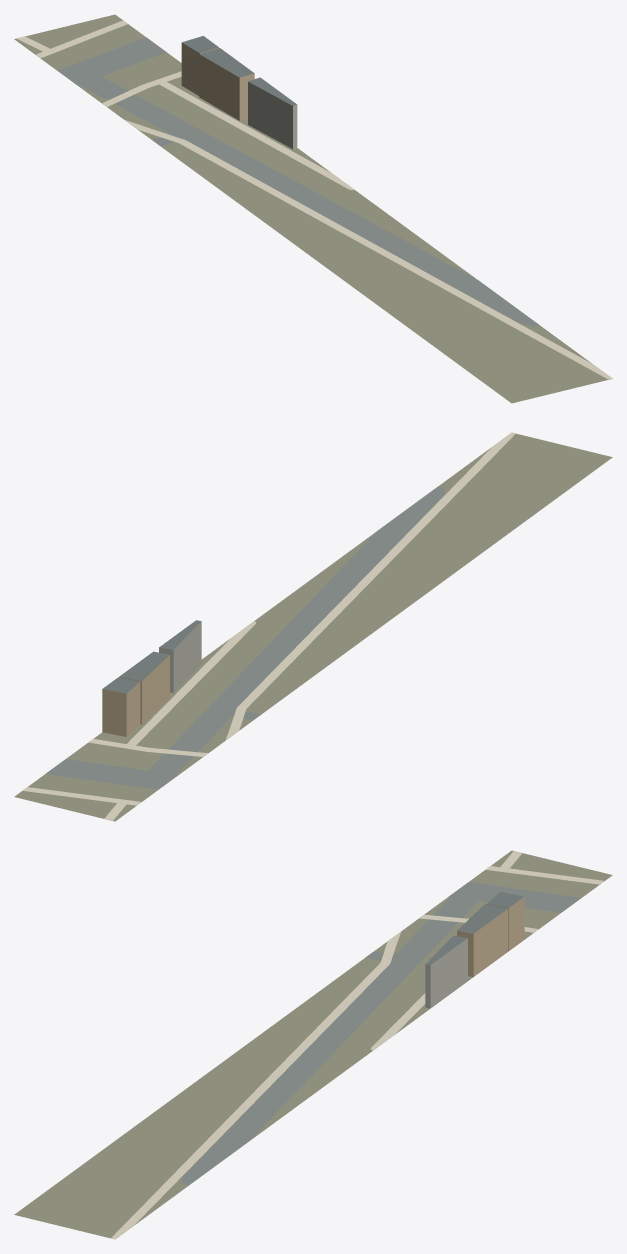
The model's file is sector-3_-4.glb.
3 views of the same model, one above another, from view 1: azimuth 30°, elevation 25°; view 2: azimuth 150°, elevation 25°; view 3: azimuth 330°, elevation 25° (orthographic).
Parts seen in each view (by area): view 1: 3:-4-ground, 3:-4-road, 3:-4-paving, 3:-4-facade, 3:-4-roof; view 2: 3:-4-ground, 3:-4-road, 3:-4-paving, 3:-4-facade, 3:-4-roof; view 3: 3:-4-ground, 3:-4-road, 3:-4-paving, 3:-4-facade, 3:-4-roof.
Boxes of the visible parts, x1=… form: 3:-4-ground: x1=14, y1=14, x2=612, y2=403; 3:-4-road: x1=57, y1=37, x2=539, y2=325; 3:-4-paving: x1=16, y1=20, x2=612, y2=379; 3:-4-facade: x1=181, y1=42, x2=297, y2=149; 3:-4-roof: x1=182, y1=36, x2=296, y2=105; 3:-4-ground: x1=14, y1=433, x2=612, y2=821; 3:-4-road: x1=46, y1=486, x2=445, y2=789; 3:-4-paving: x1=23, y1=432, x2=515, y2=820; 3:-4-facade: x1=102, y1=621, x2=201, y2=736; 3:-4-roof: x1=103, y1=620, x2=201, y2=693; 3:-4-ground: x1=14, y1=850, x2=612, y2=1238; 3:-4-road: x1=181, y1=882, x2=580, y2=1185; 3:-4-paving: x1=111, y1=851, x2=603, y2=1239; 3:-4-facade: x1=425, y1=897, x2=524, y2=1008; 3:-4-roof: x1=426, y1=892, x2=524, y2=965.
Bounding box in the file's own units: 23.48 × 9.6 × 200.
